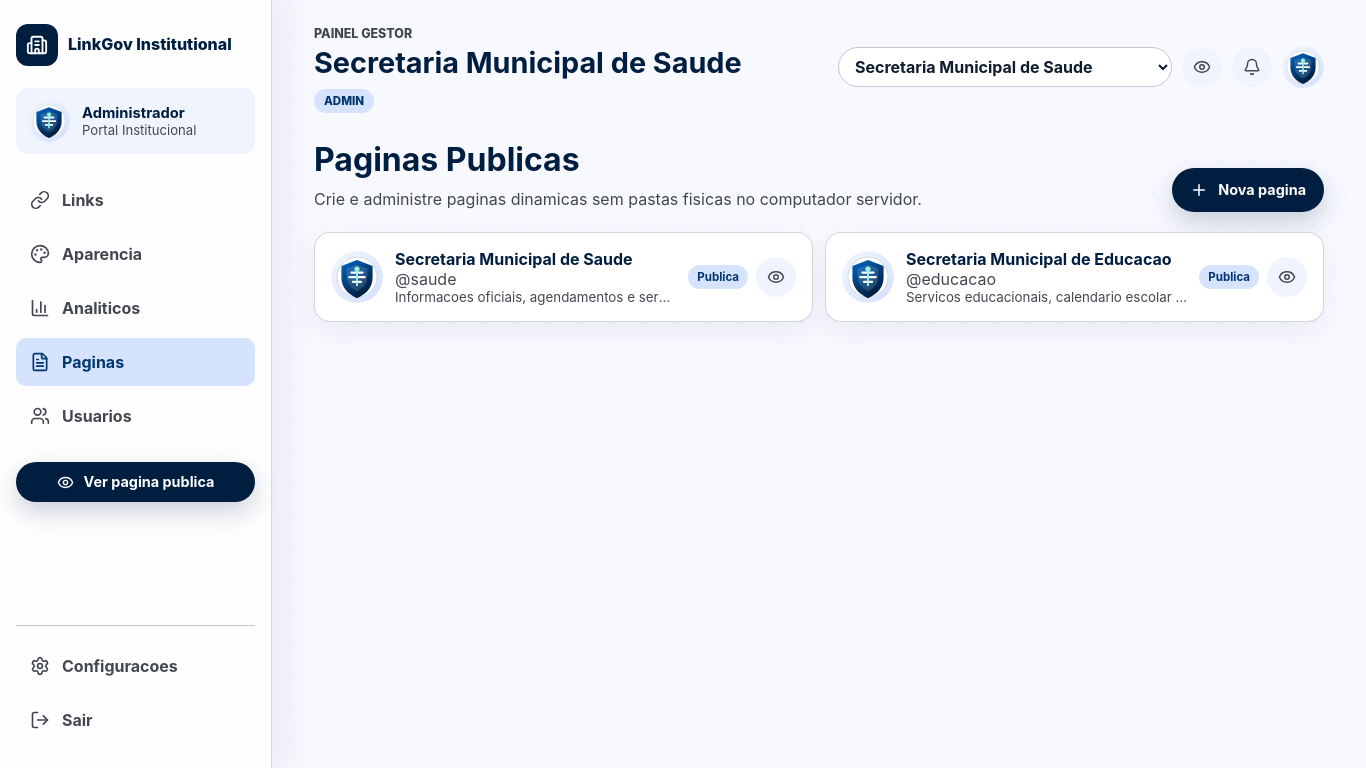
Test: App critical flows › opens the create-page dialog for admins
The image size is (1366, 768).
Click the button "Nova pagina" at (1248, 190), box [1172,168,1324,212]
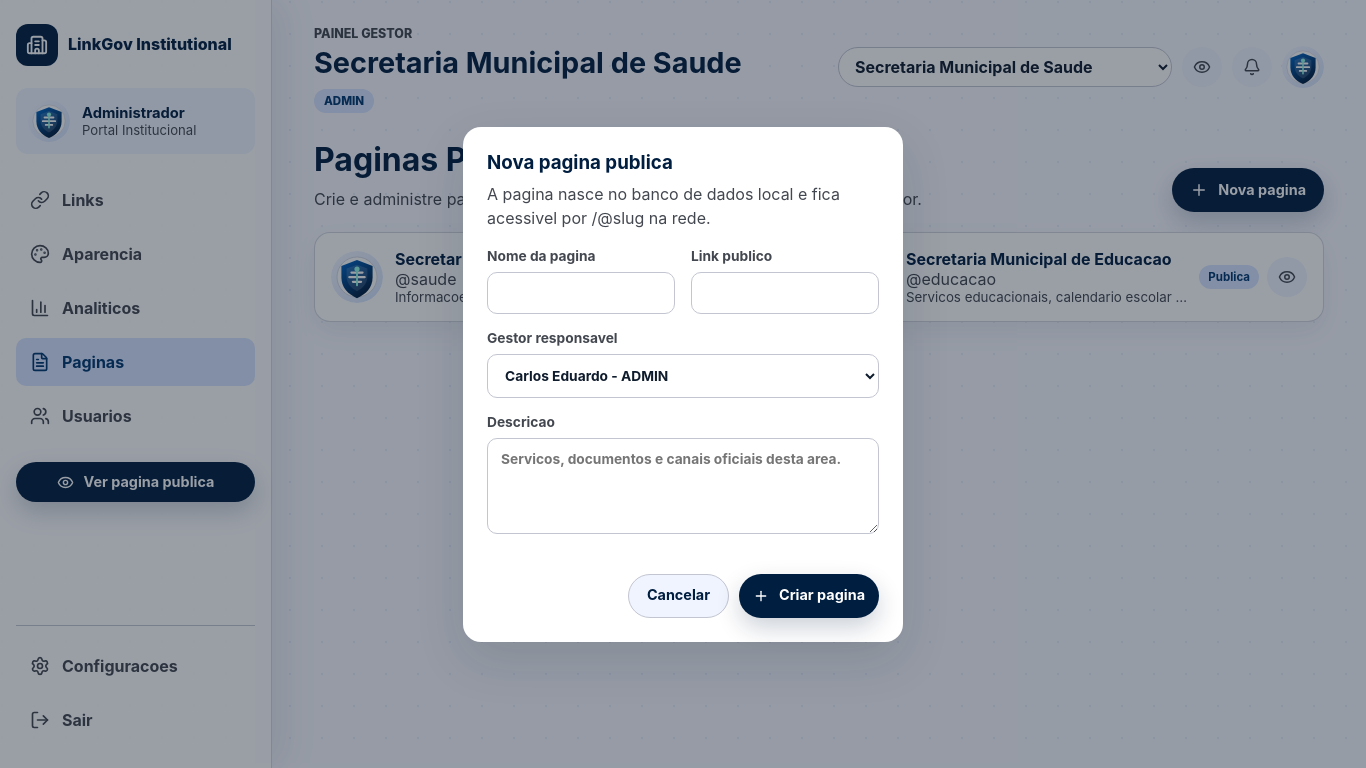
Check: the heading "Nova pagina publica" is shown, box [487,150,673,174]
Check: the field labelled "Link publico" is shown, box [691,272,879,314]
